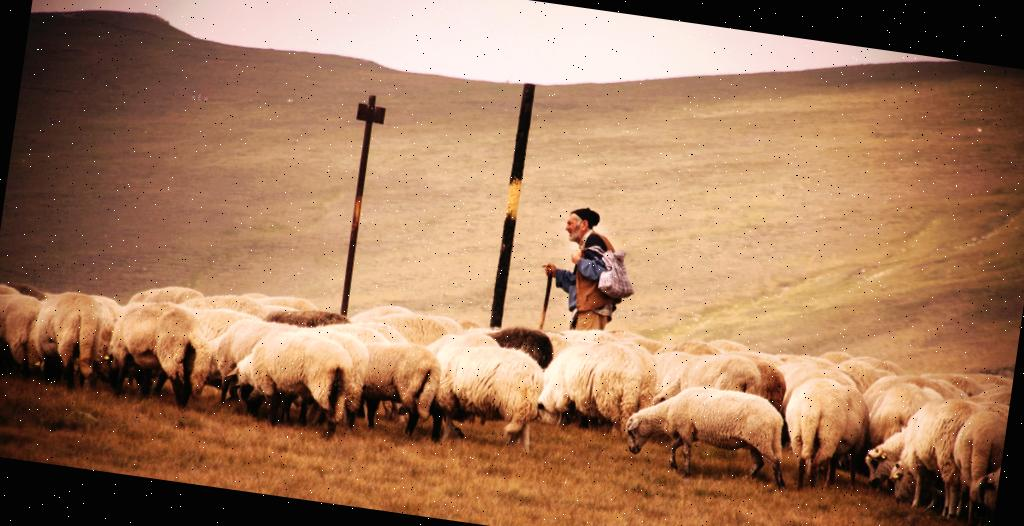Sheep: (621, 372, 798, 498), (222, 324, 358, 444), (524, 328, 660, 444), (420, 333, 544, 450), (334, 332, 456, 447), (769, 373, 877, 498), (96, 297, 212, 410), (940, 394, 1009, 523), (21, 287, 108, 389), (178, 284, 272, 341), (362, 304, 450, 363)
